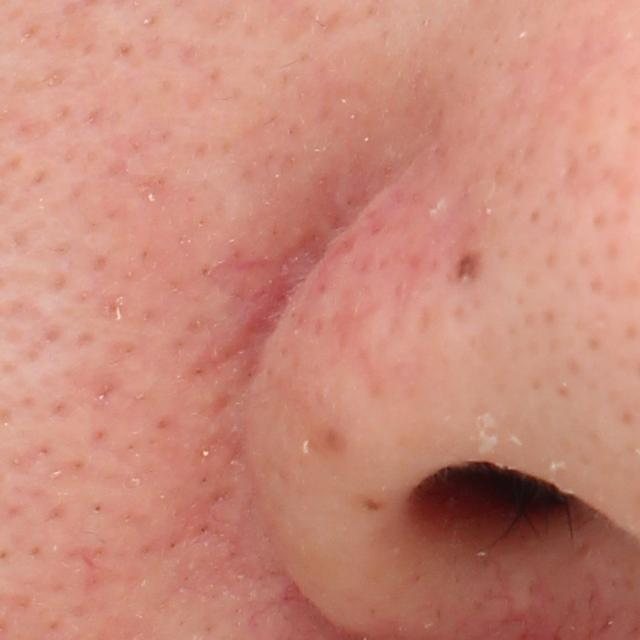nevus: (450, 252, 484, 288)
